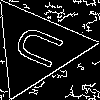U: (11, 22, 74, 75)
